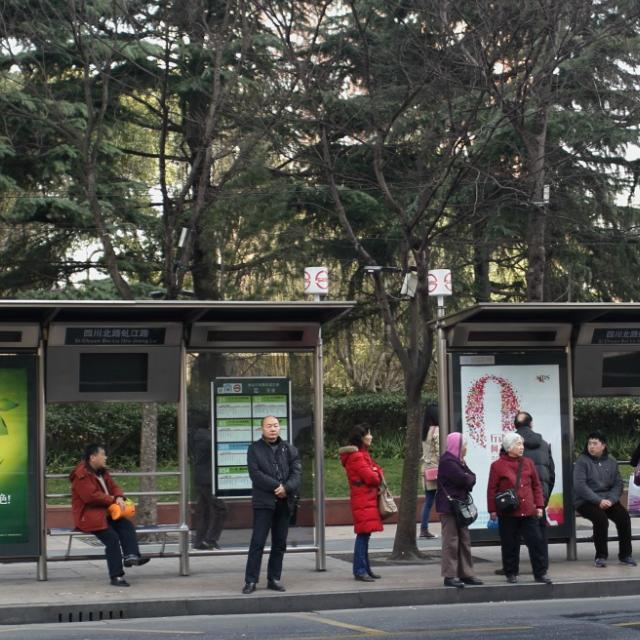curb: (0, 580, 639, 624)
